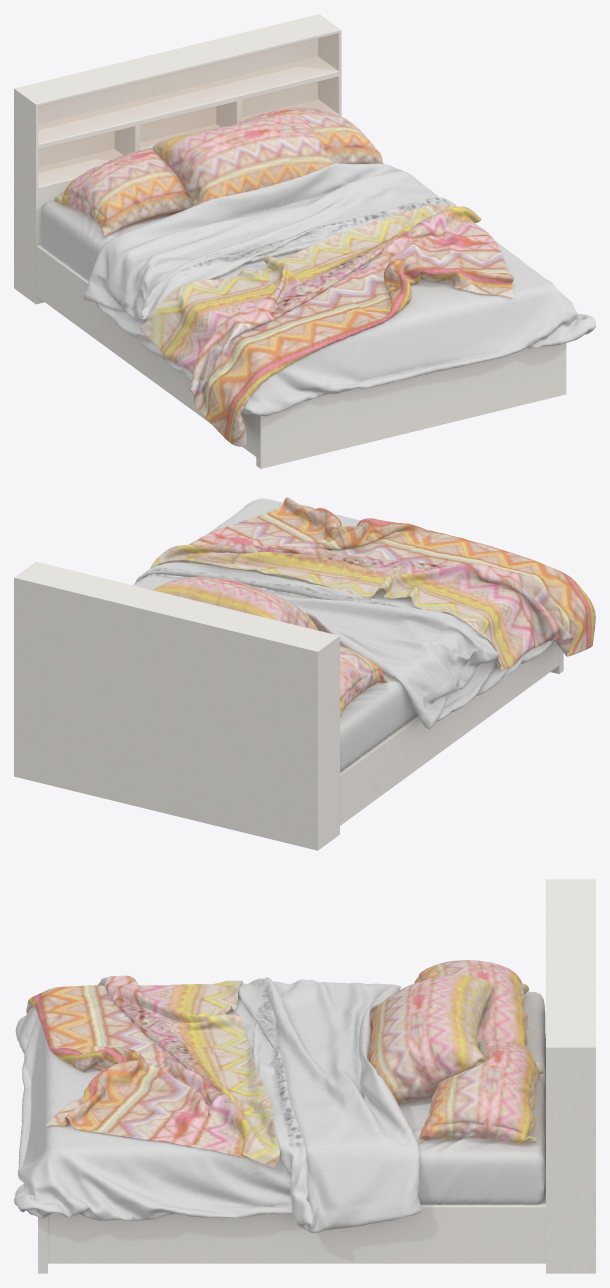
File: bed2.glb
3 renders of one model, top to bottom at view 1: azimuth 30°, elevation 25°; view 2: azimuth 150°, elevation 25°; view 3: azimuth 270°, elevation 25°, orthographic. The views are drawn at different scales.
Visible parts, largest first — view 1: Object_7, Object_4, Object_3, Object_2, Object_5, Object_6, Object_8; view 2: Object_3, Object_4, Object_7, Object_5, Object_6, Object_8; view 3: Object_7, Object_3, Object_4, Object_8, Object_5, Object_6.
Boxes of the visible parts, bbox=[...] form: Object_7: bbox=[84, 163, 595, 416]; Object_4: bbox=[36, 30, 512, 446]; Object_3: bbox=[14, 14, 566, 468]; Object_2: bbox=[38, 32, 339, 187]; Object_5: bbox=[140, 207, 513, 446]; Object_6: bbox=[88, 204, 513, 446]; Object_8: bbox=[40, 162, 595, 425]; Object_3: bbox=[14, 562, 563, 850]; Object_4: bbox=[150, 505, 595, 716]; Object_7: bbox=[133, 498, 554, 728]; Object_5: bbox=[156, 499, 595, 670]; Object_6: bbox=[145, 497, 595, 714]; Object_8: bbox=[133, 501, 582, 771]; Object_7: bbox=[14, 977, 421, 1233]; Object_3: bbox=[38, 879, 595, 1273]; Object_4: bbox=[31, 960, 543, 1168]; Object_8: bbox=[15, 976, 545, 1232]; Object_5: bbox=[26, 976, 270, 1159]; Object_6: bbox=[16, 975, 359, 1168].
Bounding box in the file's own units: 199 × 100 × 233.
Materials: 2 (2 with a texture image).
